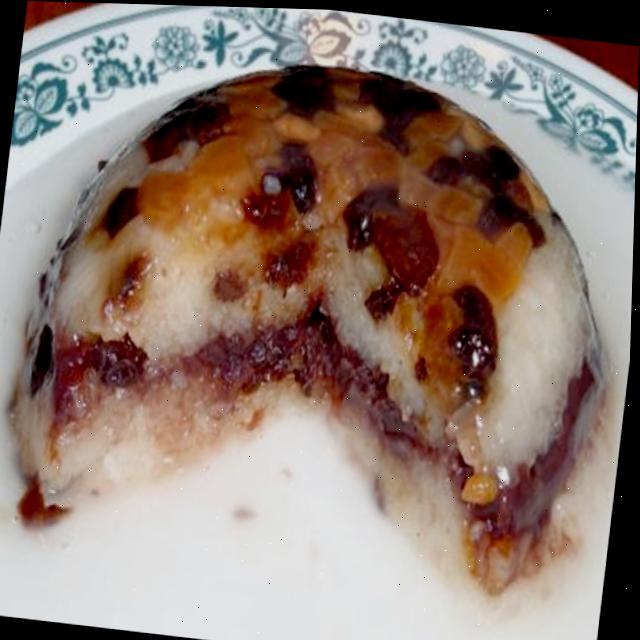米饭主食: (0, 26, 639, 627)
